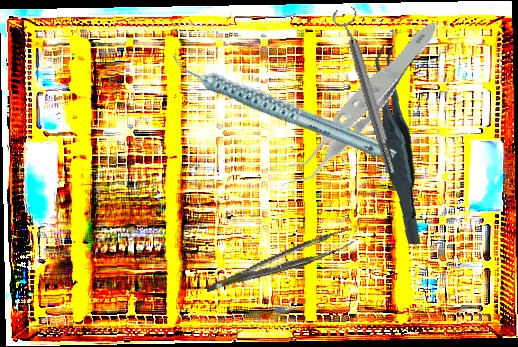Fixation Ring: (329, 4, 405, 178)
Handpiece: (169, 11, 398, 202)
Tissue Forceps: (244, 21, 468, 189), (361, 43, 436, 245), (200, 227, 359, 293)
